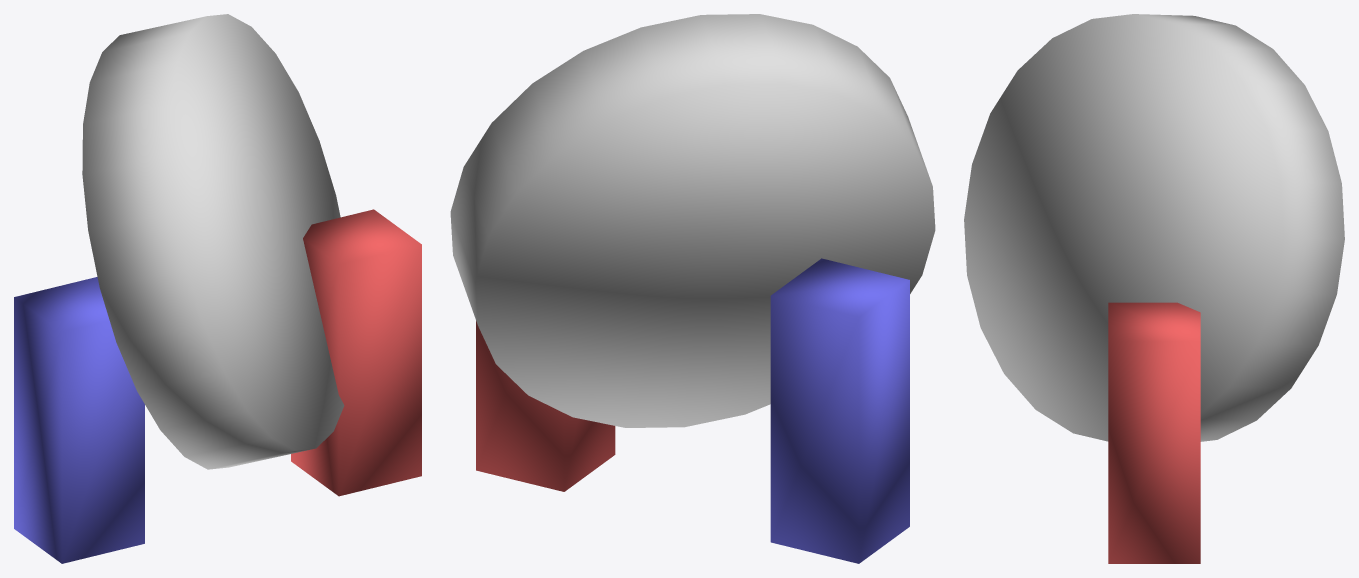
File: horseshoe_magnet.glb
3 renders of one model, left to right at view 1: azimuth 30°, elevation 25°; view 2: azimuth 150°, elevation 25°; view 3: azimuth 270°, elevation 25°, orthographic. The views are drawn at different scales.
Parts seen in each view (by area): view 1: arch, leg_s, leg_n; view 2: arch, leg_s, leg_n; view 3: arch, leg_n.
Boxes of the visible parts, box(x1,y1,x2,y2) form: arch: box(82, 14, 344, 469); leg_s: box(14, 277, 144, 563); leg_n: box(291, 209, 421, 496); arch: box(450, 14, 935, 427); leg_s: box(770, 258, 909, 563); leg_n: box(476, 321, 615, 491); arch: box(964, 14, 1344, 441); leg_n: box(1108, 302, 1200, 563).
Size of the model in its own units: 1.3 by 1.61 by 1.24.
